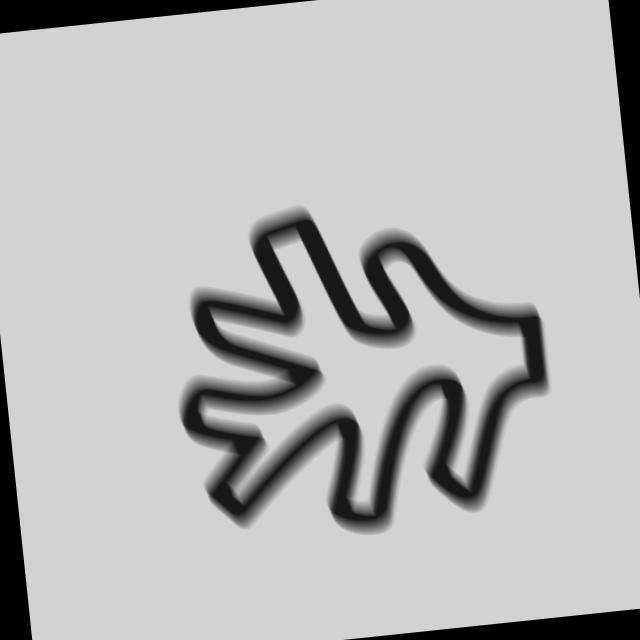coral: (155, 173, 573, 559)
